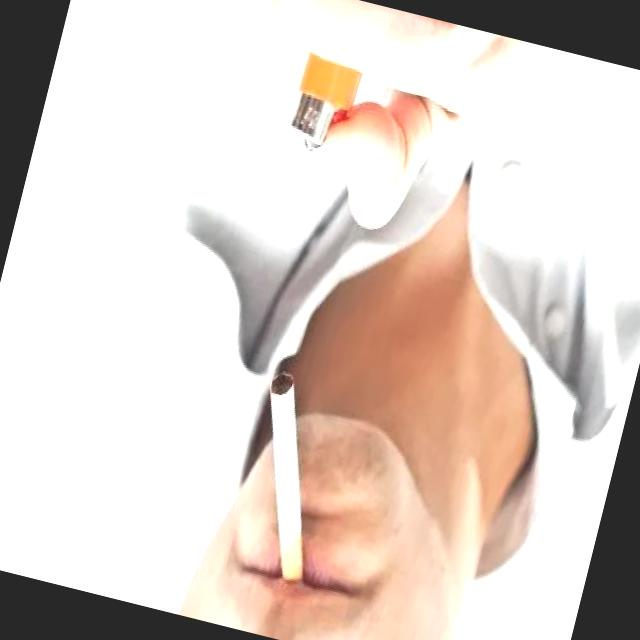smoke: (219, 359, 352, 587)
